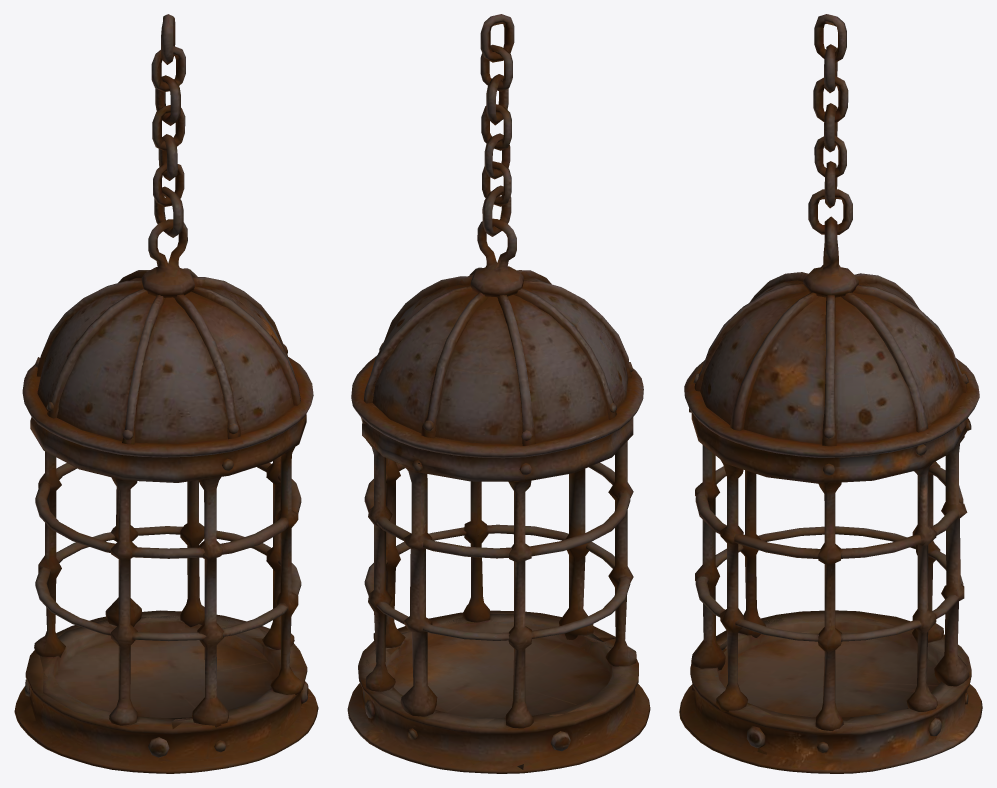
Rendered from cage.glb.
3 views of the same model, side by side, from view 1: azimuth 30°, elevation 25°; view 2: azimuth 150°, elevation 25°; view 3: azimuth 270°, elevation 25° (orthographic).
Visible parts, largest first — view 1: tripo_node_9e5d7338-e66c-4a43-b3a5-ccd0ffd415ea; view 2: tripo_node_9e5d7338-e66c-4a43-b3a5-ccd0ffd415ea; view 3: tripo_node_9e5d7338-e66c-4a43-b3a5-ccd0ffd415ea.
Boxes of the visible parts, bbox=[...] form: tripo_node_9e5d7338-e66c-4a43-b3a5-ccd0ffd415ea: bbox=[14, 14, 318, 773]; tripo_node_9e5d7338-e66c-4a43-b3a5-ccd0ffd415ea: bbox=[347, 14, 650, 773]; tripo_node_9e5d7338-e66c-4a43-b3a5-ccd0ffd415ea: bbox=[679, 14, 982, 773].
Bounding box in the file's own units: 0.395 × 0.9995 × 0.395.
Materials: 1 (1 with a texture image).
